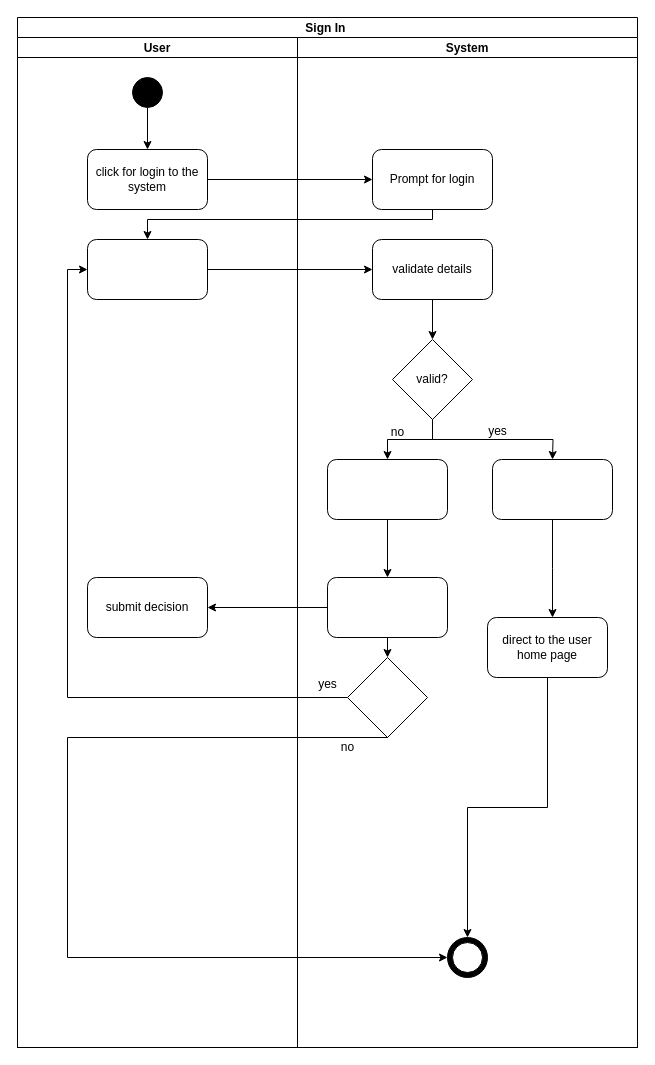
Image size: 655x1065. Some labels were removed from this diagram. Each missing label, with the centre of its shape:
display error message: [387,489]
display success: [552,489]
Enter username and password: [147,269]
Prompt for re-enter: [387,607]
re-enter?: [387,697]
